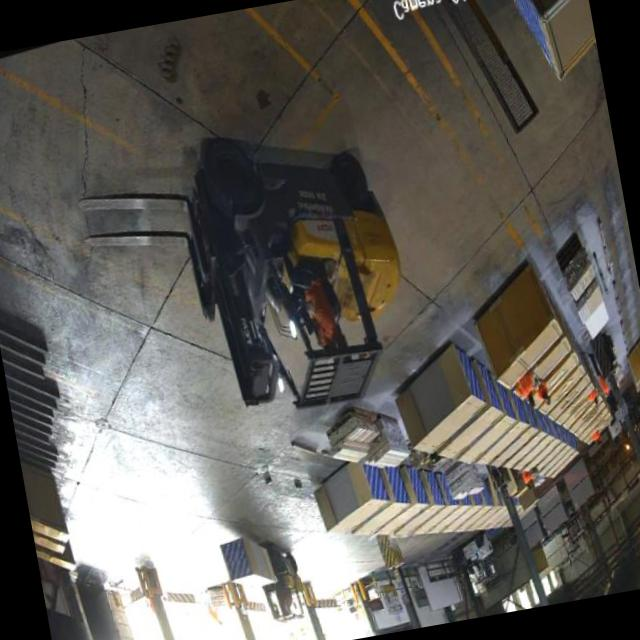forklift: (146, 81, 442, 450), (252, 537, 313, 628), (448, 528, 502, 590)
person: (586, 347, 612, 406), (510, 366, 541, 412), (534, 377, 552, 409)
